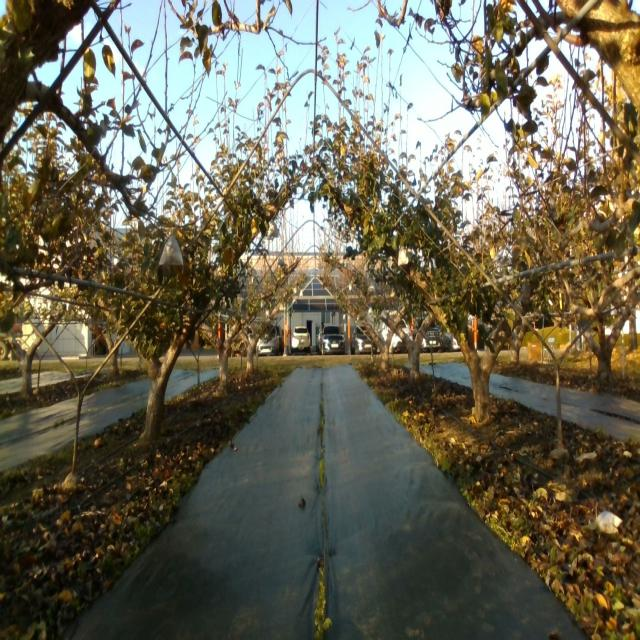pearbags: (159, 234, 184, 266), (398, 246, 409, 266)
